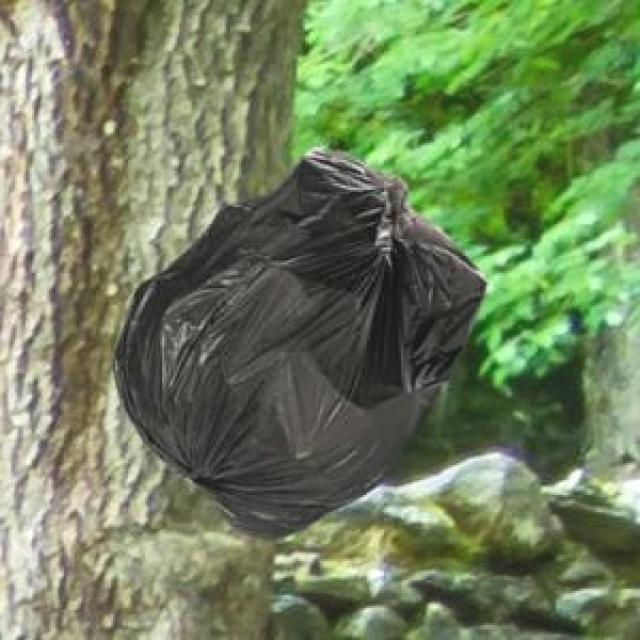Trashbag: (106, 150, 493, 539)
